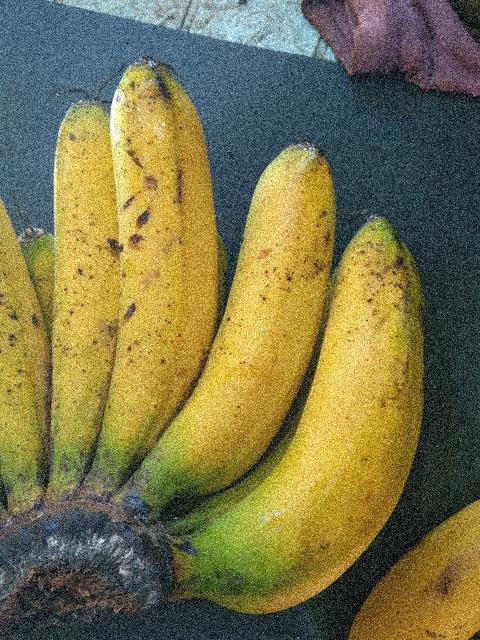ripe: (182, 215, 418, 639), (150, 139, 333, 498), (100, 49, 234, 469), (27, 68, 131, 479)
